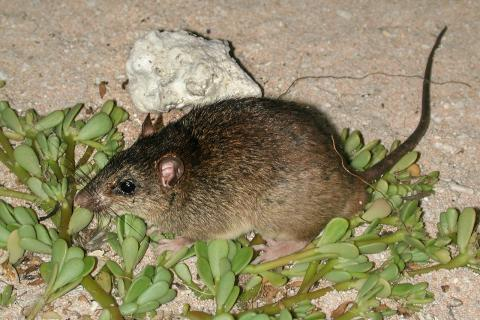rat: (61, 77, 439, 275)
